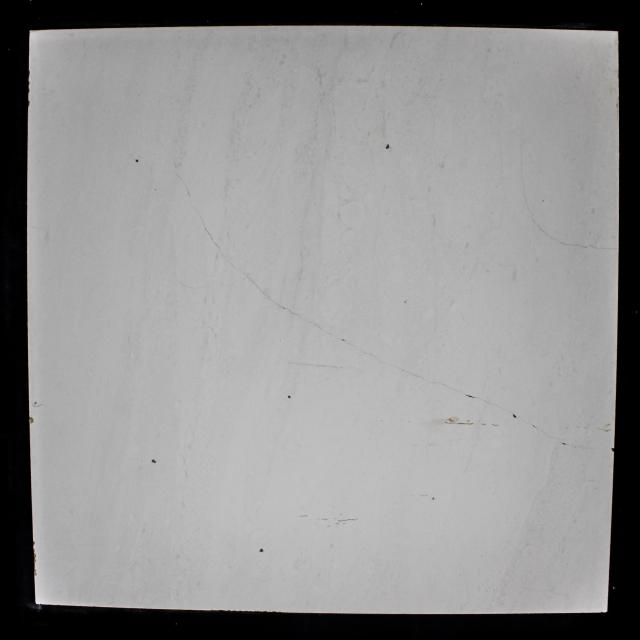edge-chipping: (33, 548, 37, 564), (28, 416, 34, 424), (34, 568, 38, 576), (32, 540, 36, 546), (611, 448, 614, 452)
hole: (384, 143, 390, 150), (259, 548, 264, 553), (152, 459, 156, 464), (512, 413, 516, 418), (432, 497, 435, 500), (135, 160, 139, 162), (341, 339, 345, 341), (288, 396, 290, 398)
line: (207, 230, 226, 258), (176, 174, 190, 196), (193, 207, 206, 230), (538, 226, 557, 240), (526, 201, 537, 224), (304, 318, 322, 331), (558, 241, 586, 248), (241, 270, 254, 284), (256, 284, 270, 297), (363, 352, 381, 362), (494, 403, 511, 413), (588, 244, 615, 250), (440, 384, 460, 392), (226, 259, 240, 270), (385, 363, 403, 371), (324, 330, 340, 339), (270, 298, 284, 308), (403, 370, 420, 378), (476, 397, 492, 405), (518, 416, 532, 425), (286, 308, 301, 316), (541, 431, 556, 439), (521, 176, 526, 200), (445, 422, 473, 425), (347, 341, 358, 348), (422, 378, 437, 383), (338, 518, 356, 522), (562, 442, 566, 445)
